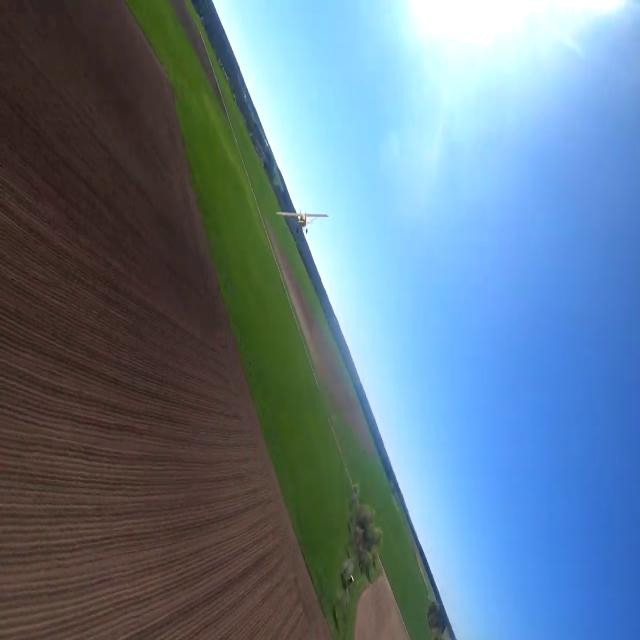iha: (277, 210, 329, 234)
